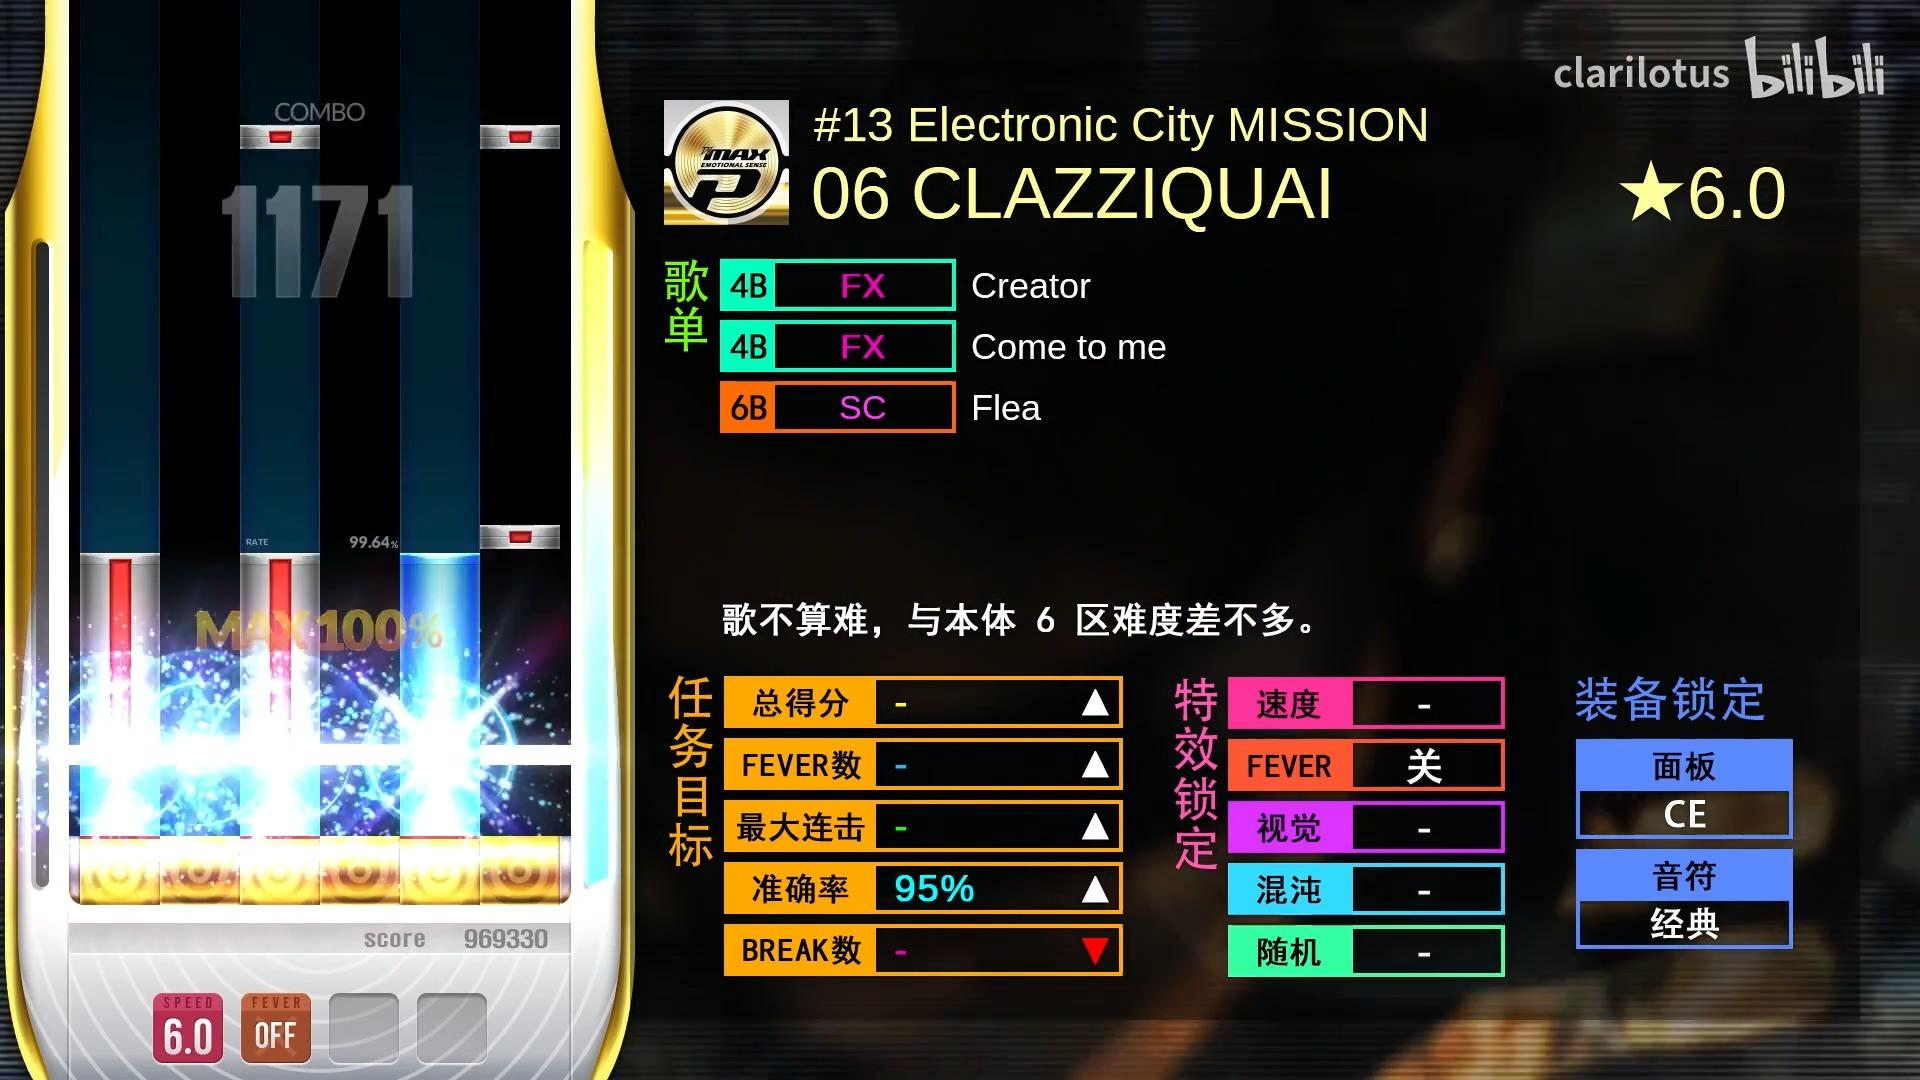hold-end: (80, 553, 161, 579), (240, 553, 320, 578), (400, 551, 481, 575)
note: (240, 124, 320, 149), (480, 125, 560, 149), (480, 525, 560, 549)
